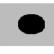correct: (17, 14, 47, 36)
